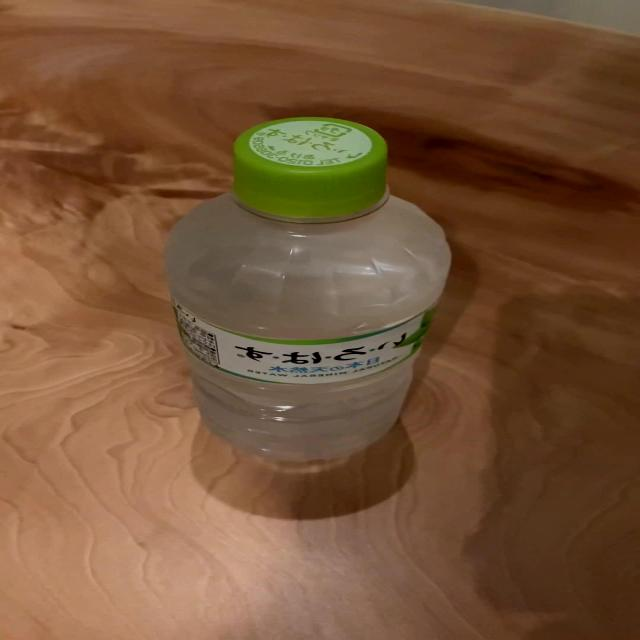bottle: (165, 114, 456, 464)
